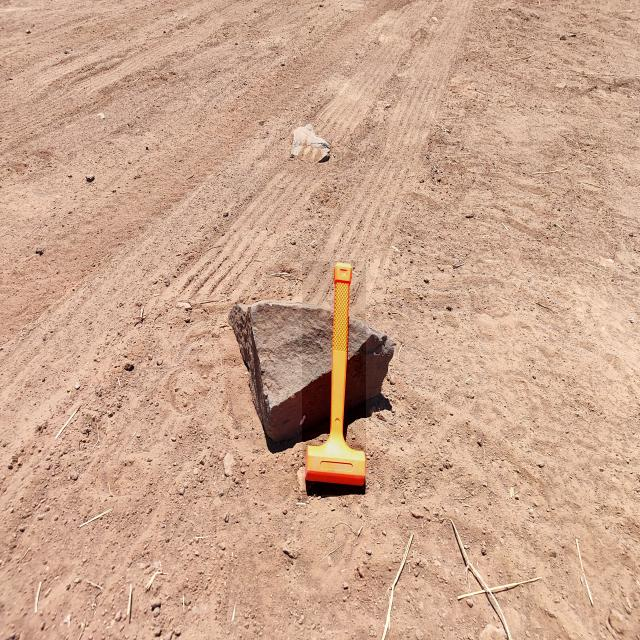Orange_hammer: (303, 261, 367, 495)
